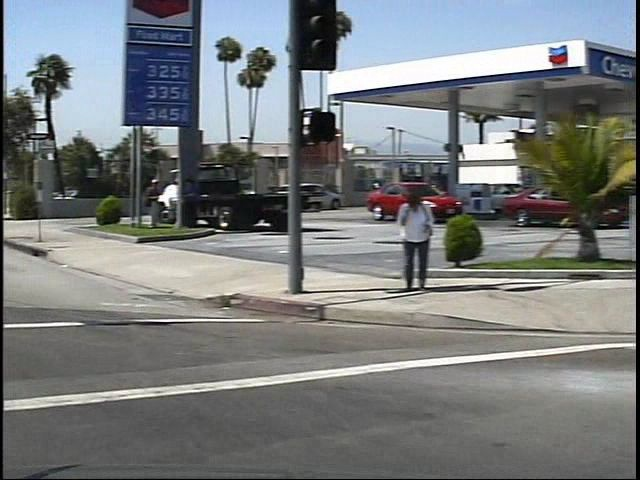person: (383, 183, 425, 294), (135, 175, 157, 232)
